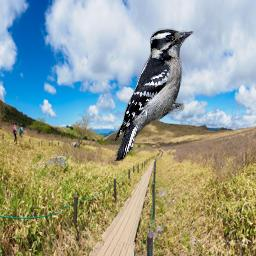Woodpecker: (114, 27, 194, 162)
